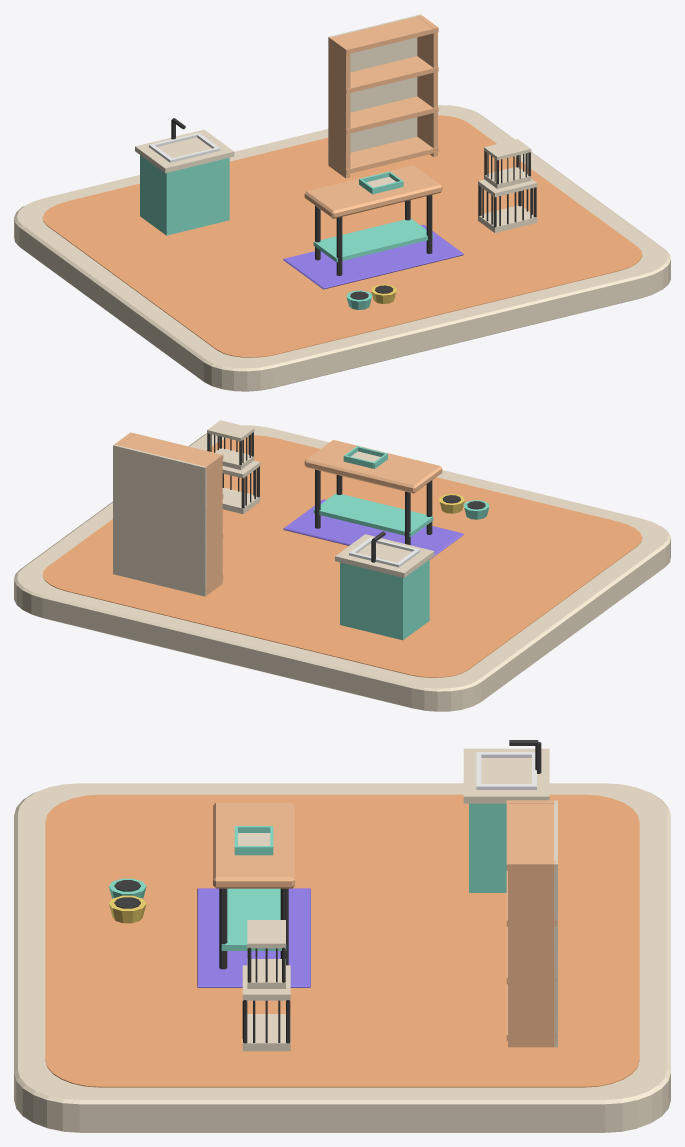
3 renders of one model, top to bottom at view 1: azimuth 30°, elevation 25°; view 2: azimuth 150°, elevation 25°; view 3: azimuth 270°, elevation 25°, orthographic. The views are drawn at different scales.
Visible parts, largest first — view 1: COM-02 Floor Surface, COM-01 Rounded Base Direct, Cabinet, Back, Rug, Worktop, Side, Lower shelf, Counter, Side.001, Shelf.003, Shelf (+5 smaller); view 2: COM-02 Floor Surface, COM-01 Rounded Base Direct, Back, Cabinet, Worktop, Rug, Lower shelf, Side, Counter, Shelf.003, Floor, Roof.001 (+1 smaller); view 3: COM-02 Floor Surface, COM-01 Rounded Base Direct, Side.001, Worktop, Rug, Counter, Cabinet, Shelf.003, Lower shelf, Floor, Roof.001, Back (+4 smaller).
Part boxes in pixels (x1=…): COM-02 Floor Surface: x1=42, y1=115, x2=642, y2=357; COM-01 Rounded Base Direct: x1=14, y1=105, x2=670, y2=391; Cabinet: x1=140, y1=155, x2=229, y2=235; Back: x1=328, y1=14, x2=421, y2=165; Rug: x1=283, y1=224, x2=463, y2=289; Worktop: x1=304, y1=165, x2=442, y2=218; Side: x1=329, y1=37, x2=350, y2=178; Lower shelf: x1=313, y1=218, x2=433, y2=262; Counter: x1=135, y1=129, x2=234, y2=173; Side.001: x1=417, y1=15, x2=437, y2=156; Shelf.003: x1=328, y1=16, x2=438, y2=54; Shelf: x1=328, y1=136, x2=438, y2=174; COM-02 Floor Surface: x1=42, y1=435, x2=642, y2=677; COM-01 Rounded Base Direct: x1=14, y1=425, x2=670, y2=711; Back: x1=113, y1=444, x2=206, y2=596; Cabinet: x1=340, y1=559, x2=429, y2=640; Worktop: x1=304, y1=440, x2=442, y2=493; Rug: x1=283, y1=499, x2=463, y2=559; Lower shelf: x1=313, y1=493, x2=433, y2=536; Side: x1=202, y1=454, x2=222, y2=595; Counter: x1=335, y1=534, x2=434, y2=577; Shelf.003: x1=119, y1=432, x2=223, y2=471; Floor: x1=222, y1=487, x2=260, y2=514; Roof.001: x1=207, y1=420, x2=254, y2=441; COM-02 Floor Surface: x1=45, y1=794, x2=639, y2=1087; COM-01 Rounded Base Direct: x1=14, y1=783, x2=670, y2=1132; Side.001: x1=508, y1=861, x2=555, y2=1047; Worktop: x1=213, y1=802, x2=294, y2=888; Rug: x1=197, y1=888, x2=310, y2=987; Counter: x1=463, y1=748, x2=549, y2=803; Cabinet: x1=469, y1=803, x2=506, y2=892; Shelf.003: x1=506, y1=800, x2=556, y2=870; Lower shelf: x1=221, y1=888, x2=286, y2=950; Floor: x1=242, y1=1014, x2=290, y2=1051; Roof.001: x1=247, y1=920, x2=285, y2=948; Back: x1=554, y1=800, x2=557, y2=1047.
Size of the model in its own units: 6 by 1.9 by 5.2.
Materials: 1 (1 with a texture image).
